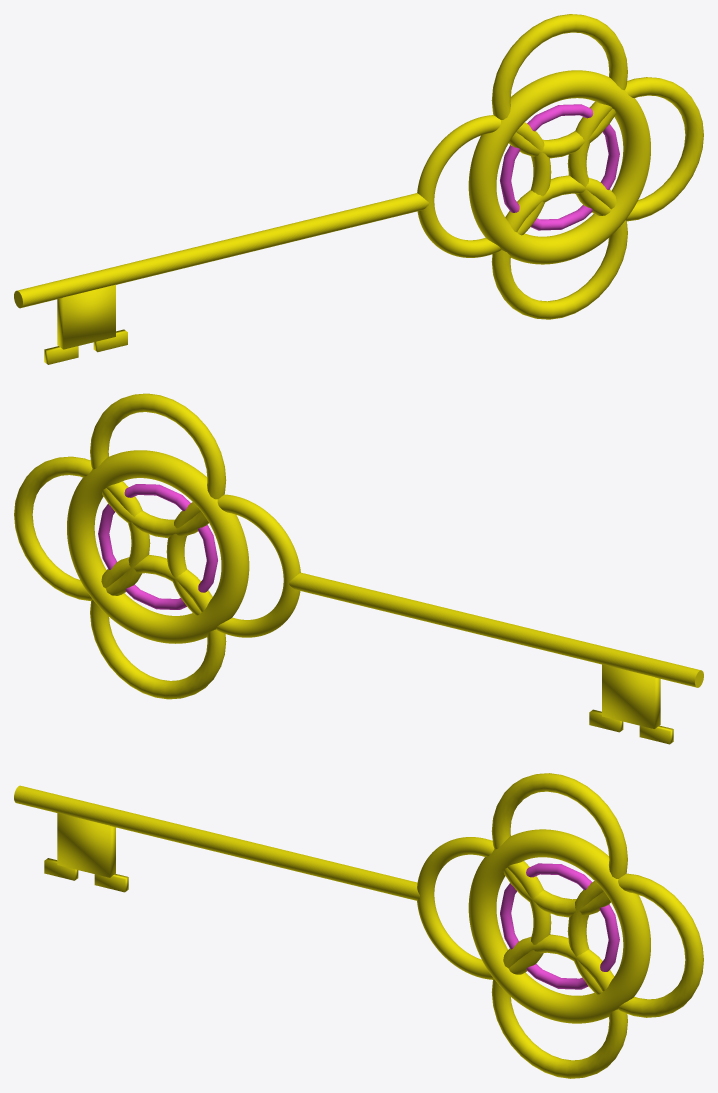
Rendered from Key.fbx.
3 renders of one model, top to bottom at view 1: azimuth 30°, elevation 25°; view 2: azimuth 150°, elevation 25°; view 3: azimuth 330°, elevation 25°, orthographic.
Visible parts, largest first — view 1: Torus, Cylinder, Torus.004, Torus.003, Torus.002, Torus.005, Cube, Torus.001; view 2: Torus, Cylinder, Torus.002, Torus.004, Torus.003, Torus.005, Cube, Torus.001; view 3: Torus, Cylinder, Torus.004, Torus.003, Torus.002, Torus.005, Cube, Torus.001, Cube.001, Cube.002.
Part boxes in pixels (x1=…): Torus: x1=468, y1=70, x2=650, y2=264; Cylinder: x1=14, y1=193, x2=428, y2=308; Torus.004: x1=491, y1=175, x2=627, y2=319; Torus.003: x1=567, y1=77, x2=703, y2=221; Torus.002: x1=491, y1=14, x2=627, y2=158; Torus.005: x1=417, y1=115, x2=551, y2=257; Cube: x1=57, y1=284, x2=115, y2=349; Torus.001: x1=500, y1=104, x2=619, y2=230; Torus: x1=67, y1=450, x2=249, y2=643; Cylinder: x1=289, y1=572, x2=703, y2=687; Torus.002: x1=90, y1=393, x2=226, y2=538; Torus.004: x1=90, y1=555, x2=226, y2=699; Torus.003: x1=14, y1=456, x2=150, y2=600; Torus.005: x1=166, y1=494, x2=300, y2=637; Cube: x1=602, y1=664, x2=660, y2=728; Torus.001: x1=98, y1=484, x2=217, y2=609; Torus: x1=468, y1=829, x2=650, y2=1023; Cylinder: x1=14, y1=785, x2=419, y2=900; Torus.004: x1=491, y1=934, x2=627, y2=1078; Torus.003: x1=567, y1=873, x2=703, y2=1017; Torus.002: x1=491, y1=773, x2=627, y2=917; Torus.005: x1=417, y1=837, x2=551, y2=979; Cube: x1=57, y1=813, x2=115, y2=877; Torus.001: x1=500, y1=863, x2=619, y2=989; Cube.001: x1=94, y1=874, x2=128, y2=892; Cube.002: x1=44, y1=858, x2=78, y2=880.
Size of the model in its own units: 1351 by 568 by 49.2.
